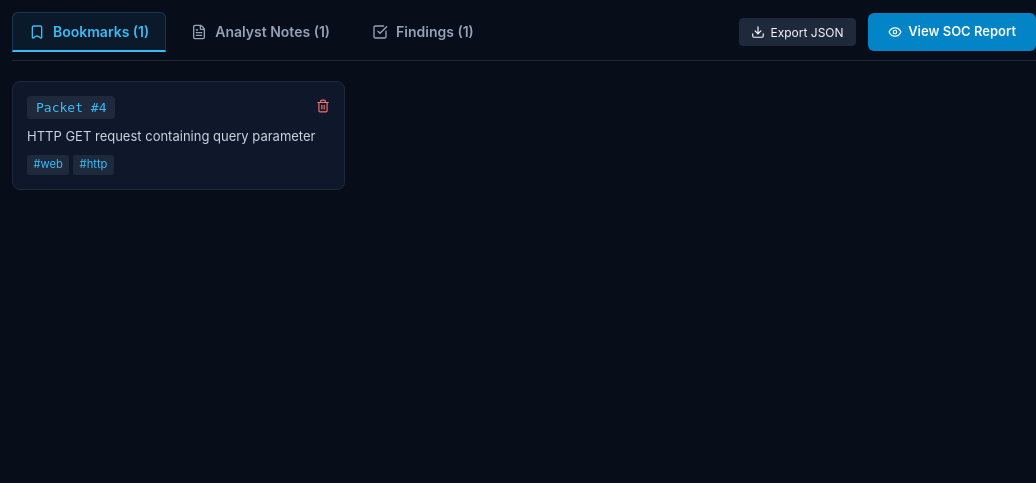
Scenario: InvestigationWorkspace Component › renders bookmarks and supports tab switching to notes and findings
Expected: the text "HTTP GET request containing query parameter" is shown, left=27, top=127, right=330, bottom=147
// Switch to Notes tab
What coordinates should you click on to do the following:
click the button "Analyst Notes (1)"
I would click on:
 (261, 32)
Its box is left=174, top=12, right=347, bottom=52.
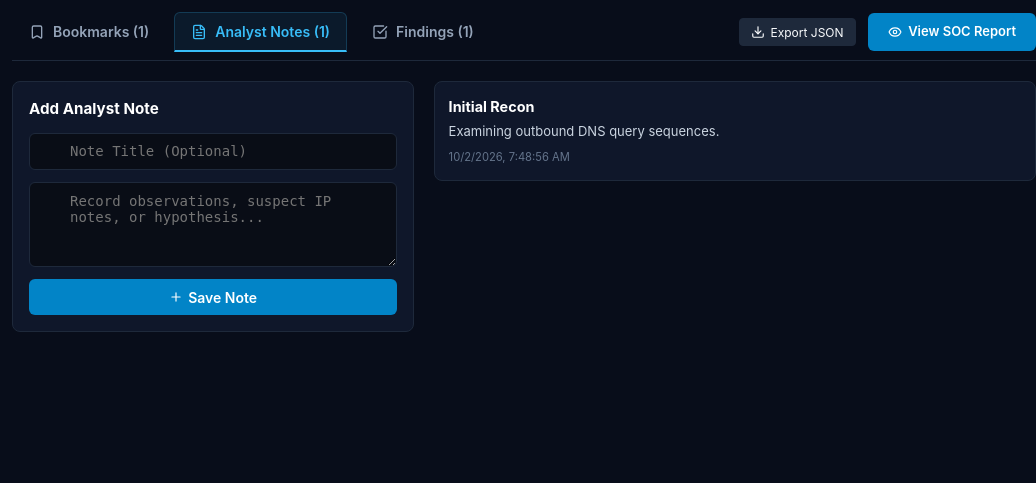
Result: the heading "Initial Recon" is shown at left=449, top=98, right=534, bottom=115
// Switch to Findings tab
What coordinates should you click on to do the following:
click the button "Findings (1)"
I would click on:
 (423, 32)
Its box is left=355, top=12, right=491, bottom=52.
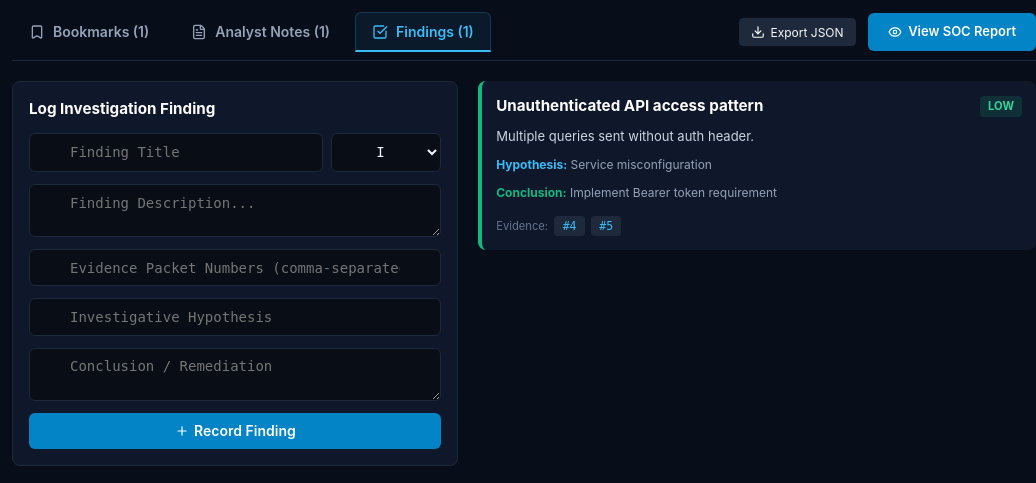
Result: the heading "Unauthenticated API access pattern" is shown at left=496, top=95, right=763, bottom=118
